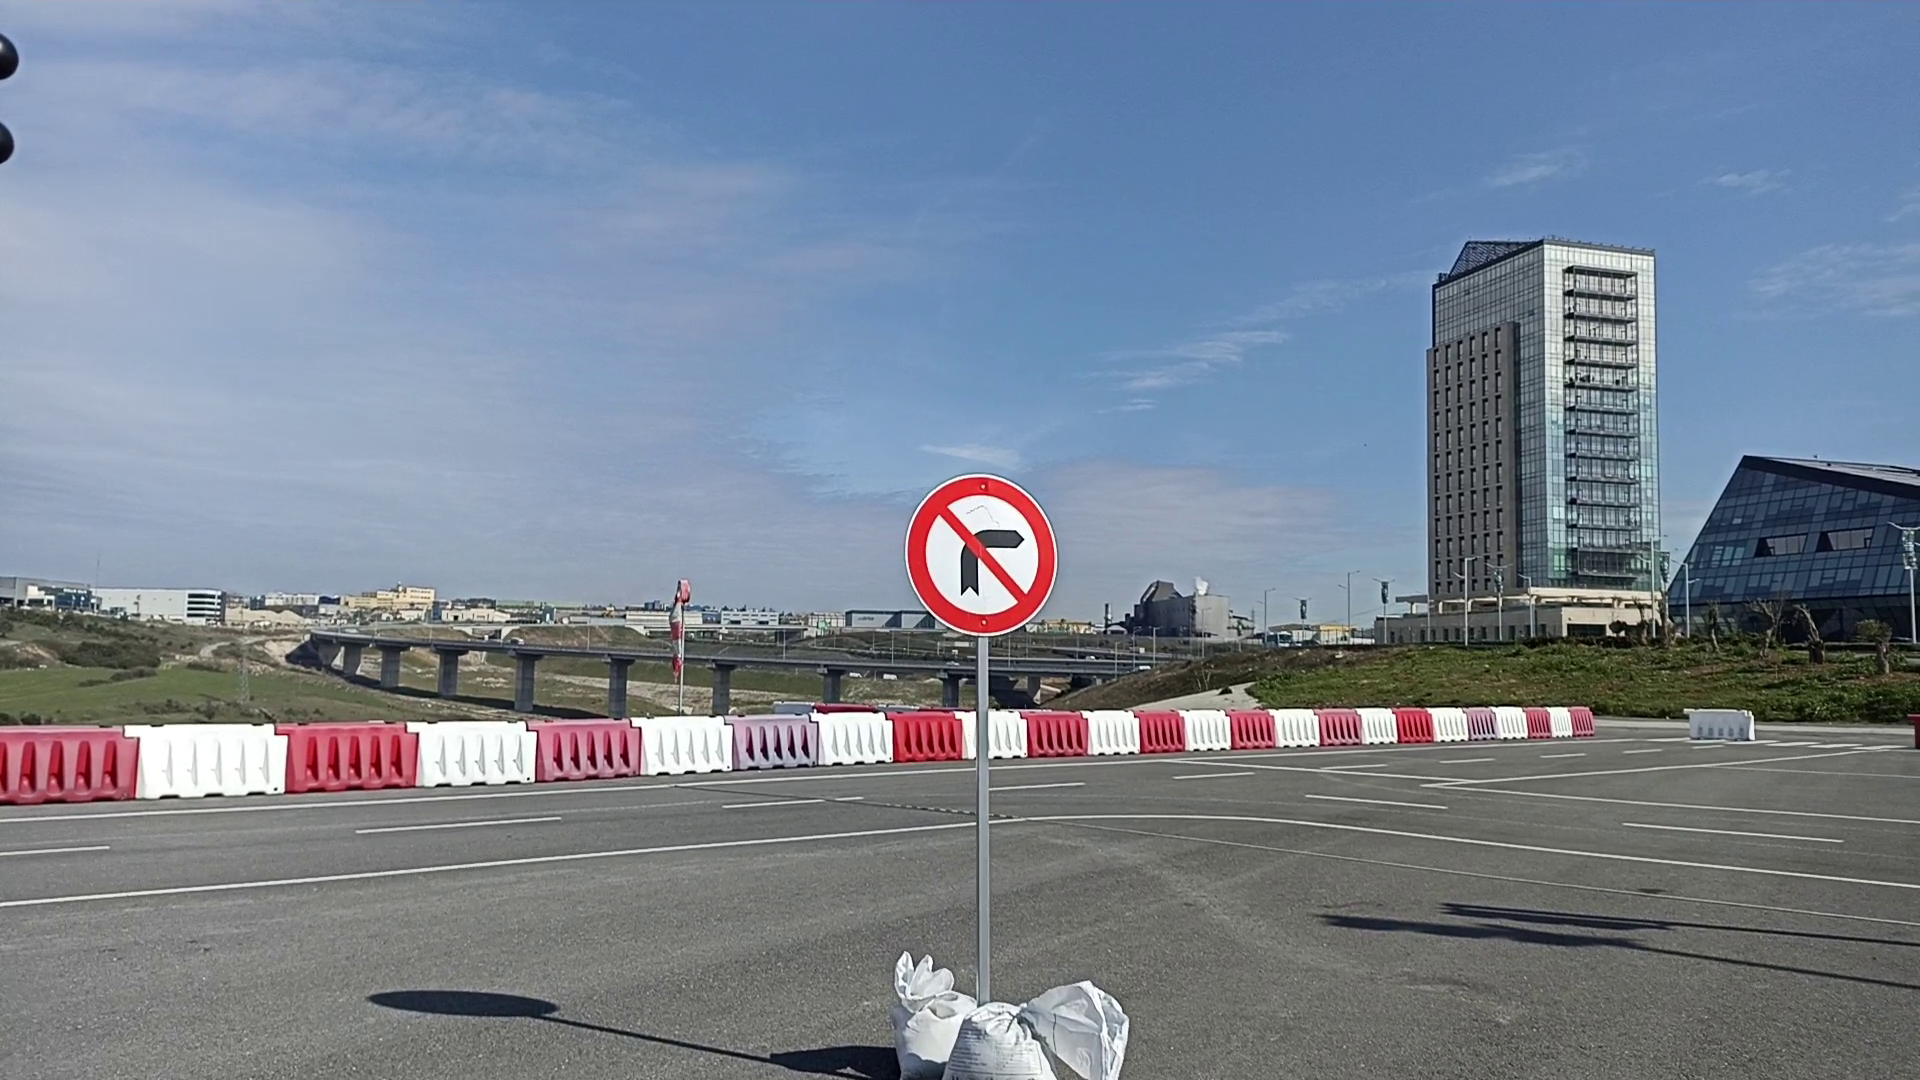noleftturn: (901, 469, 1060, 638)
